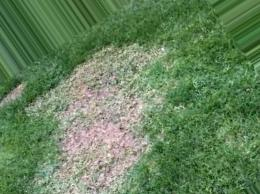patch: (64, 82, 99, 170), (104, 83, 133, 169), (50, 174, 119, 192)
